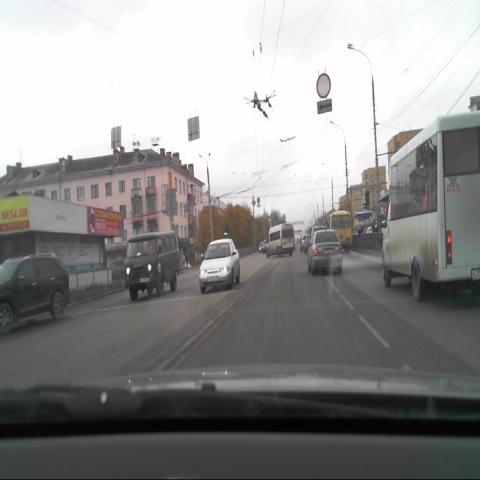3_2: (316, 72, 331, 98)
8_3_2: (316, 98, 332, 115)
